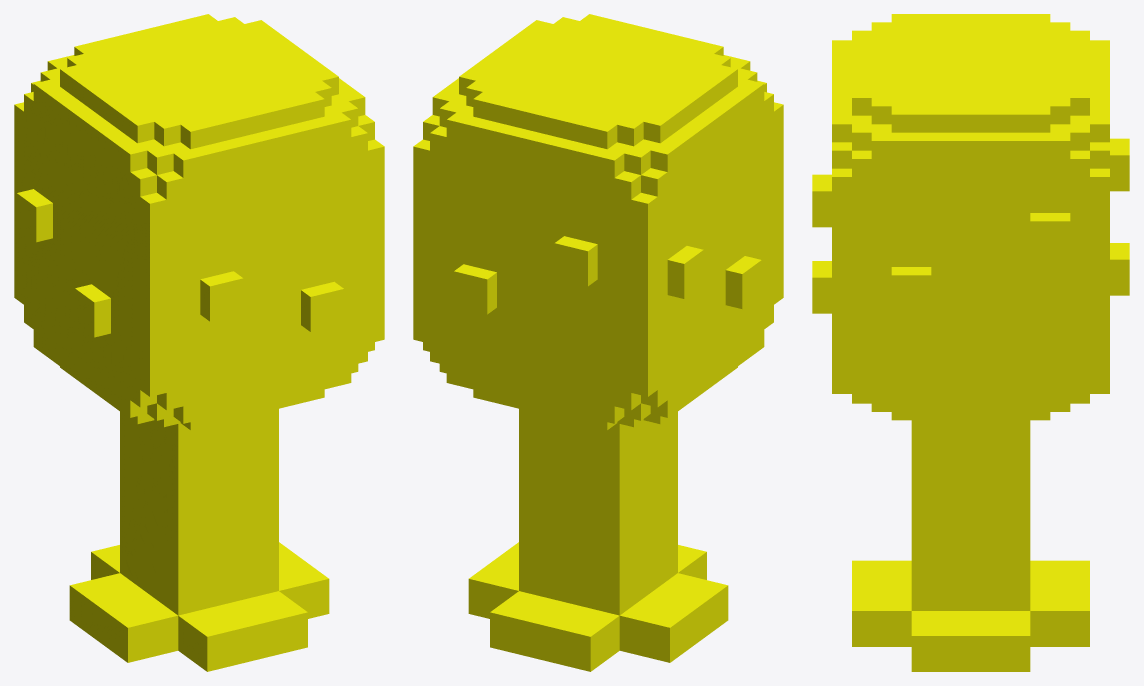
Rendered from voxel-farm-apple-tree.glb.
3 views of the same model, side by side, from view 1: azimuth 30°, elevation 25°; view 2: azimuth 150°, elevation 25°; view 3: azimuth 270°, elevation 25° (orthographic). The views are drawn at different scales.
Parts seen in each view (by area): view 1: VS_Farm_Apple_Tree; view 2: VS_Farm_Apple_Tree; view 3: VS_Farm_Apple_Tree.
Boxes of the visible parts, x1,y1,x2,y2 form: VS_Farm_Apple_Tree: (14,14,384,671); VS_Farm_Apple_Tree: (413,14,783,671); VS_Farm_Apple_Tree: (812,14,1129,671).
Bounding box in the file's own units: 1.6 × 3.1 × 1.6.
